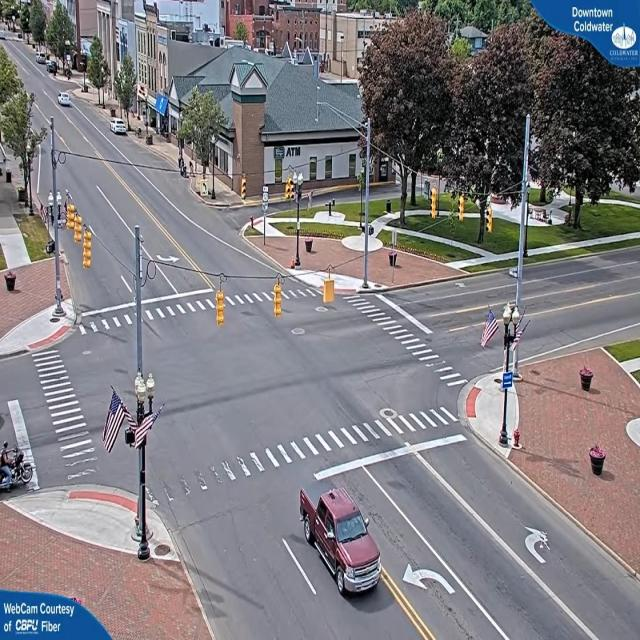car: (304, 487, 382, 598), (111, 120, 129, 136), (58, 93, 72, 108)
motorbike: (0, 433, 35, 496)
